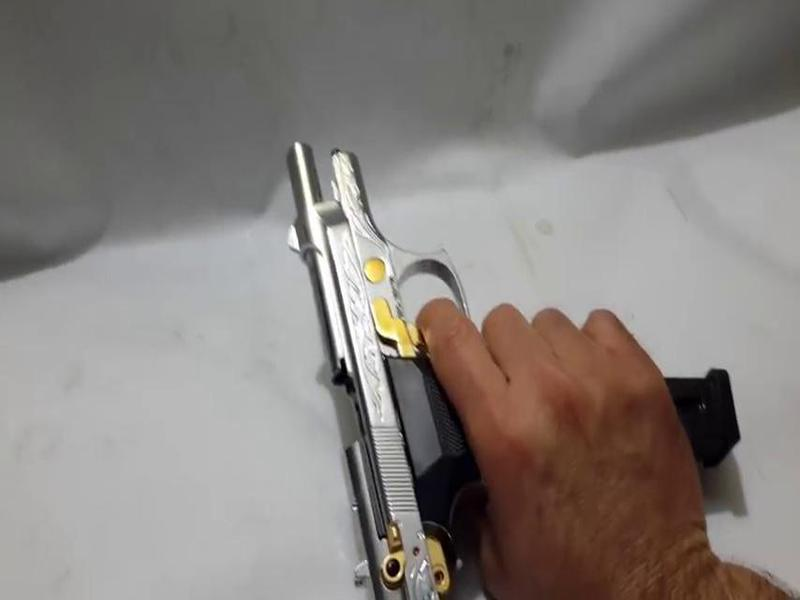Pistola: (266, 115, 615, 600)
